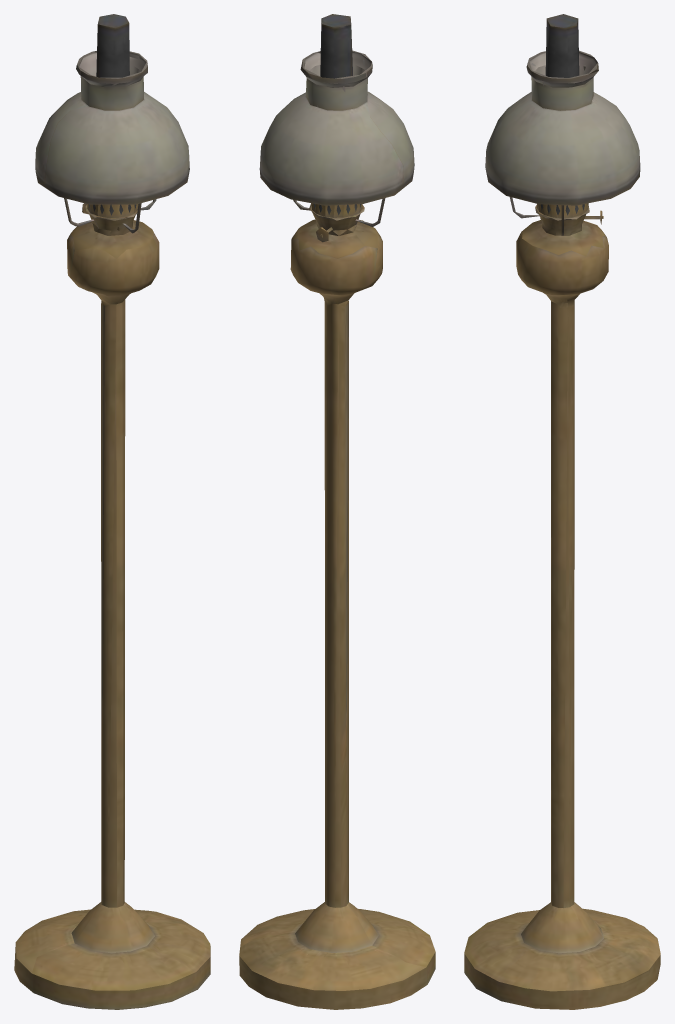
File: lamp-oil-floor.lod1.glb
The picture shows the model from 3 angles, left to right: view 1: azimuth 30°, elevation 25°; view 2: azimuth 150°, elevation 25°; view 3: azimuth 270°, elevation 25°; orthographic projection.
Parts seen in each view (by area): view 1: lamp-oil-floor; view 2: lamp-oil-floor; view 3: lamp-oil-floor.
Boxes of the visible parts, x1,y1,x2,y2 form: lamp-oil-floor: (14, 14, 210, 1009); lamp-oil-floor: (239, 14, 435, 1009); lamp-oil-floor: (464, 14, 660, 1009).
Bounding box in the file's own units: 0.2759 × 1.47 × 0.276.
1 material, 1 textured.
